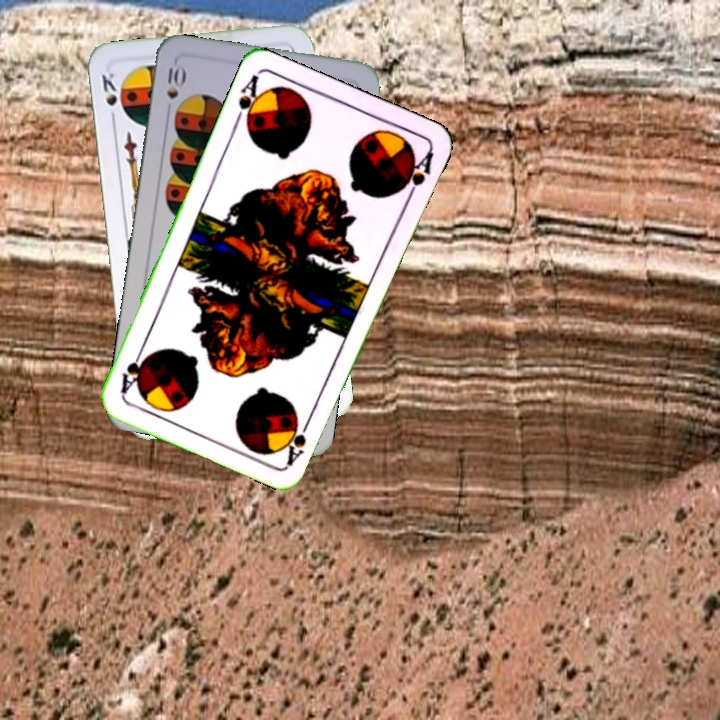S10: (162, 59, 187, 102)
SA: (230, 71, 266, 132), (282, 410, 315, 467)
SK: (97, 68, 120, 126)
